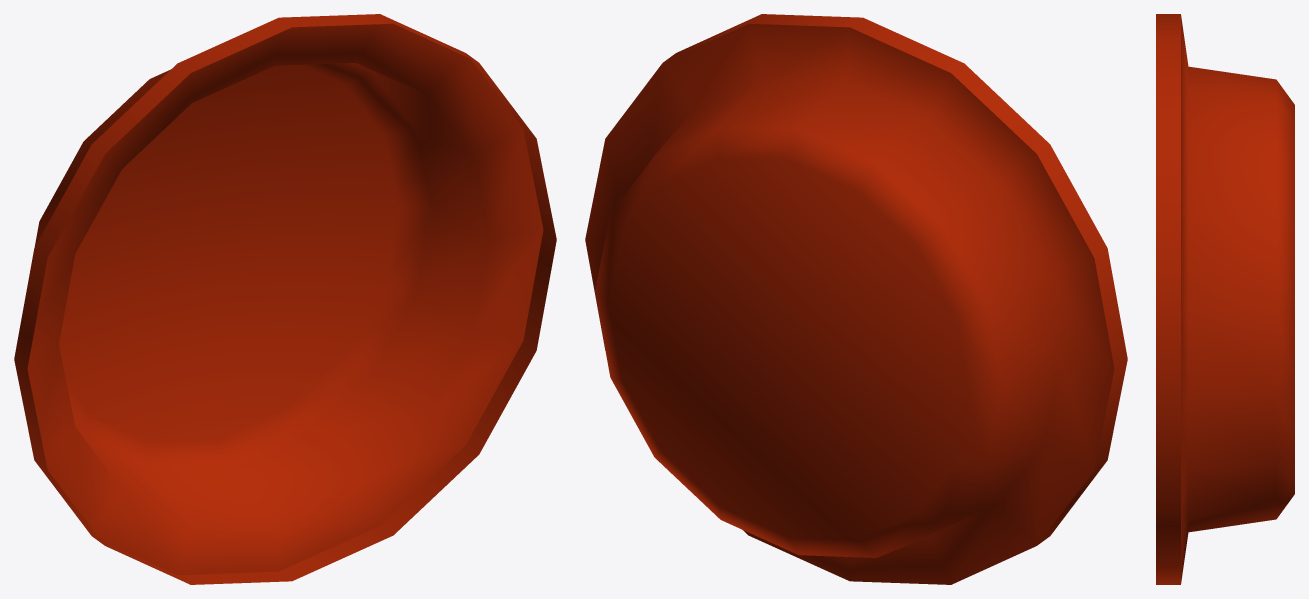
File: sCap_01_LOD0.FBX
The picture shows the model from 3 angles, left to right: view 1: azimuth 30°, elevation 25°; view 2: azimuth 150°, elevation 25°; view 3: azimuth 270°, elevation 25°; orthographic projection. The views are drawn at different scales.
Visible parts, largest first — view 1: Caps_up1_001_LOD0; view 2: Caps_up1_001_LOD0; view 3: Caps_up1_001_LOD0.
Part boxes in pixels (x1,y1,x2,y2): Caps_up1_001_LOD0: (14,14,556,584); Caps_up1_001_LOD0: (585,14,1127,584); Caps_up1_001_LOD0: (1156,14,1294,584).
Bounding box in the file's own units: 19 × 19 × 4.62.
